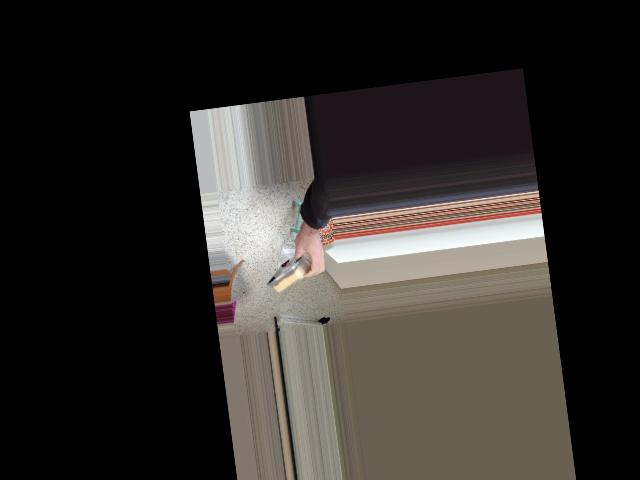cheese: (260, 239, 337, 304)
